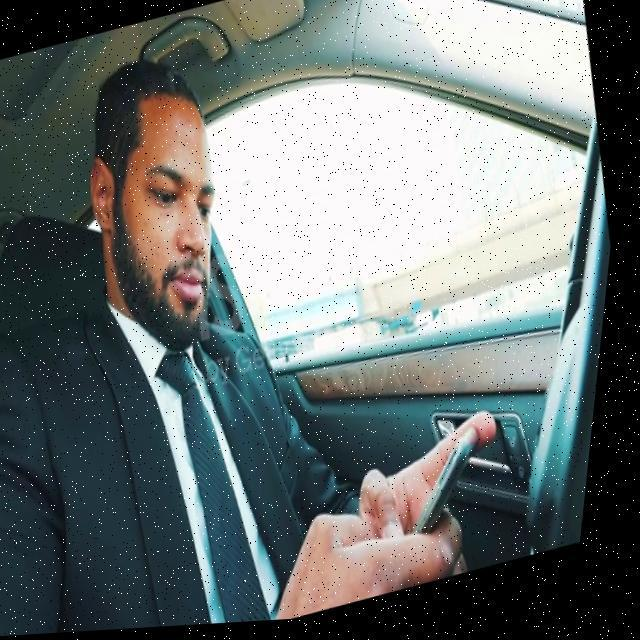PhoneCall: (407, 433, 508, 541)
